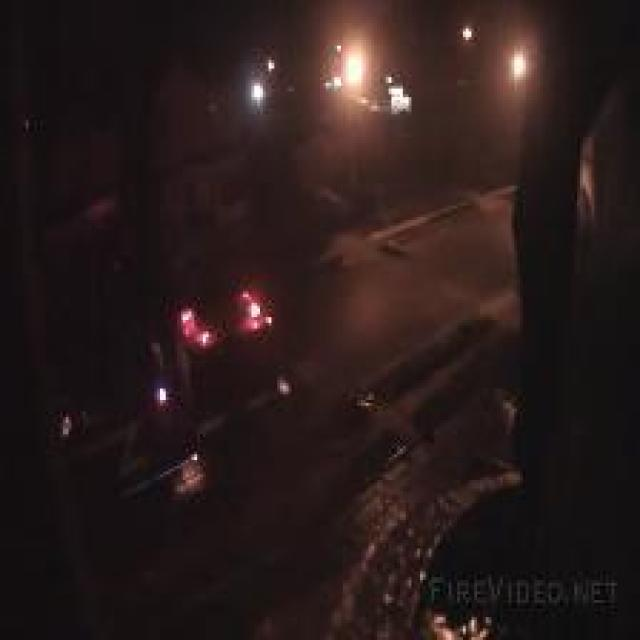other: (159, 298, 294, 349), (311, 30, 391, 112), (449, 22, 542, 90), (228, 31, 292, 116)
